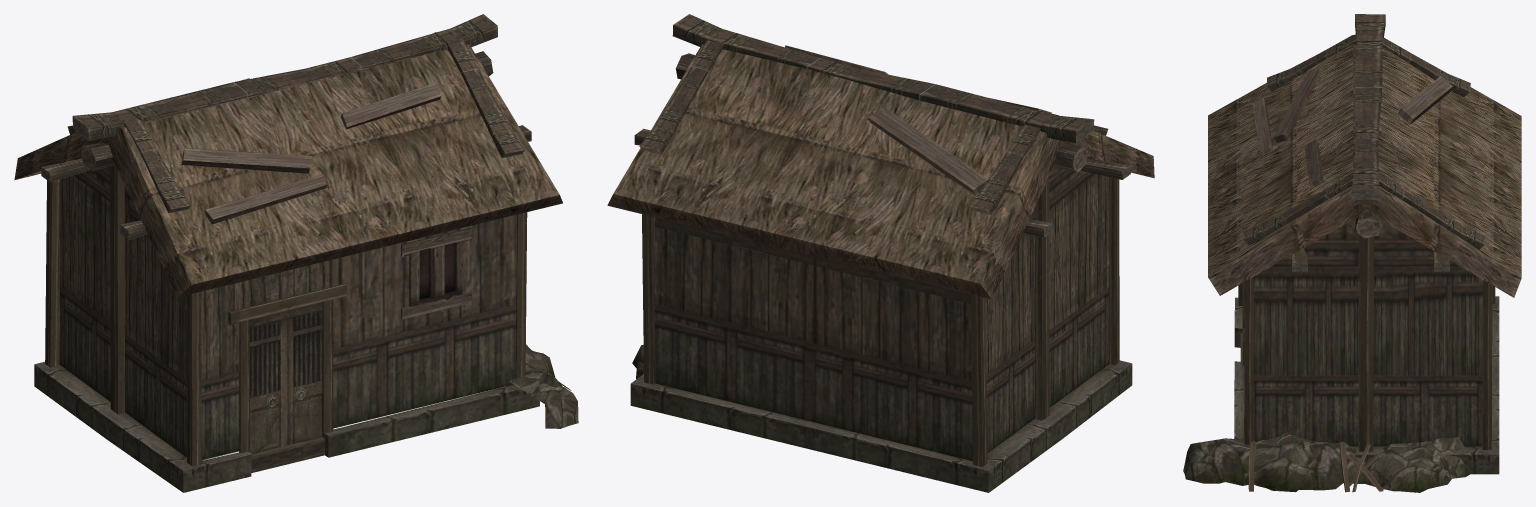
File: pve_wujianA_uv2.FBX
3 views of the same model, side by side, from view 1: azimuth 30°, elevation 25°; view 2: azimuth 150°, elevation 25°; view 3: azimuth 270°, elevation 25° (orthographic). The views are drawn at different scales.
Parts seen in each view (by area): view 1: s7_maocaofang_b; view 2: s7_maocaofang_b; view 3: s7_maocaofang_b.
Part boxes in pixels (x1,y1,x2,y2): s7_maocaofang_b: (14, 14, 578, 492); s7_maocaofang_b: (607, 14, 1154, 492); s7_maocaofang_b: (1183, 14, 1521, 492).
Bounding box in the file's own units: 598 × 438 × 455.
